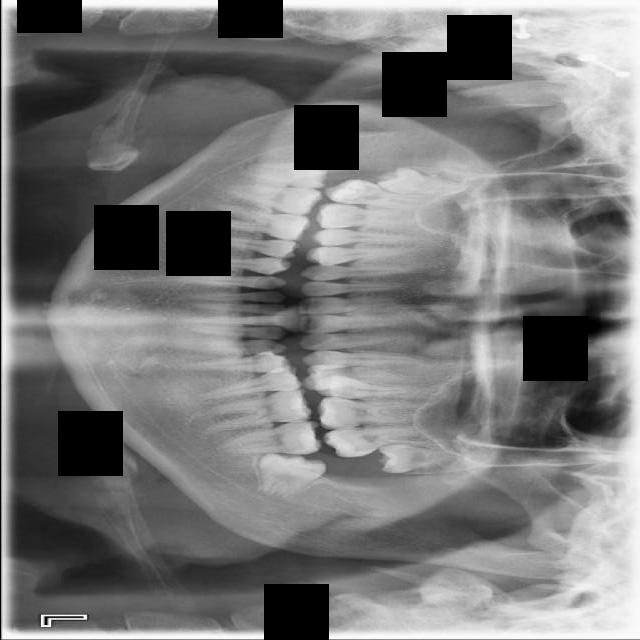3M ESPE Implant: (375, 165, 465, 199)
52: (323, 173, 381, 211)
73: (30, 618, 36, 624)
BioHorizons Implant: (323, 426, 421, 458)
BioLife Implant: (376, 440, 462, 475)
Biomet 3i Implant: (254, 447, 327, 505)
Blue Sky Bio Implant: (220, 419, 321, 455)
Caries: (321, 176, 441, 213)
Implant: (223, 183, 322, 216)
Keystone Dental Implant: (242, 154, 328, 192)
